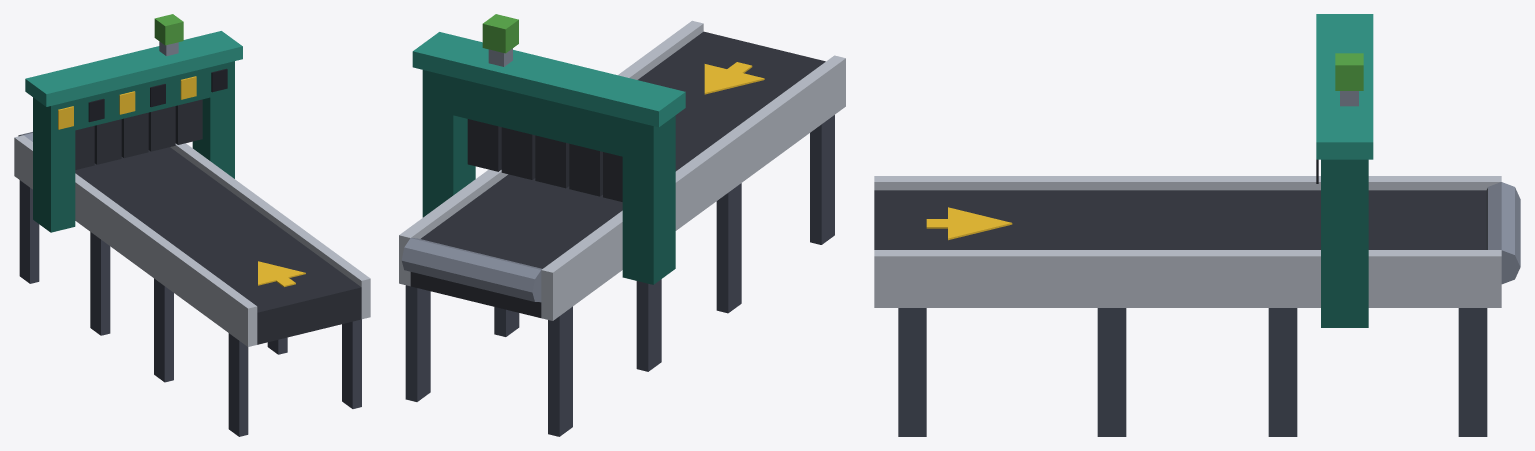
Rendered from exit.glb.
3 renders of one model, left to right at view 1: azimuth 30°, elevation 25°; view 2: azimuth 150°, elevation 25°; view 3: azimuth 270°, elevation 25°, orthographic. The views are drawn at different scales.
Visible parts, largest first — view 1: exit; view 2: exit; view 3: exit.
Part boxes in pixels (box(x1,y1,x2,y2)): exit: box(14, 14, 370, 436); exit: box(399, 14, 845, 436); exit: box(874, 14, 1520, 436).
Bounding box in the file's own units: 0.64 × 0.84 × 1.36.
1 material, 1 textured.
